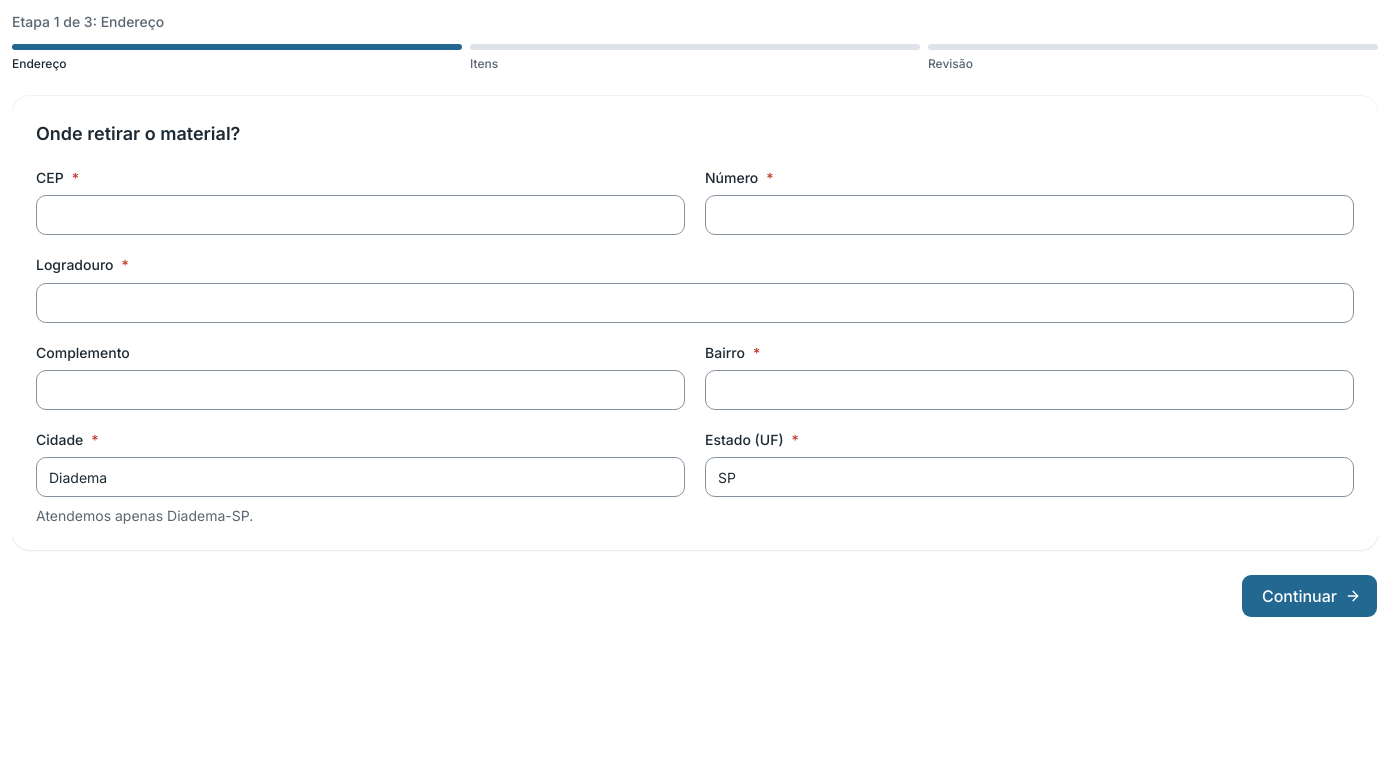
Test: CollectionRequestForm (11 §64, 17_TESTING §78, DEC-073) › não avança com endereço incompleto e indica os campos
Click the button "Continuar" at (1310, 596), box [1241,574,1378,618]
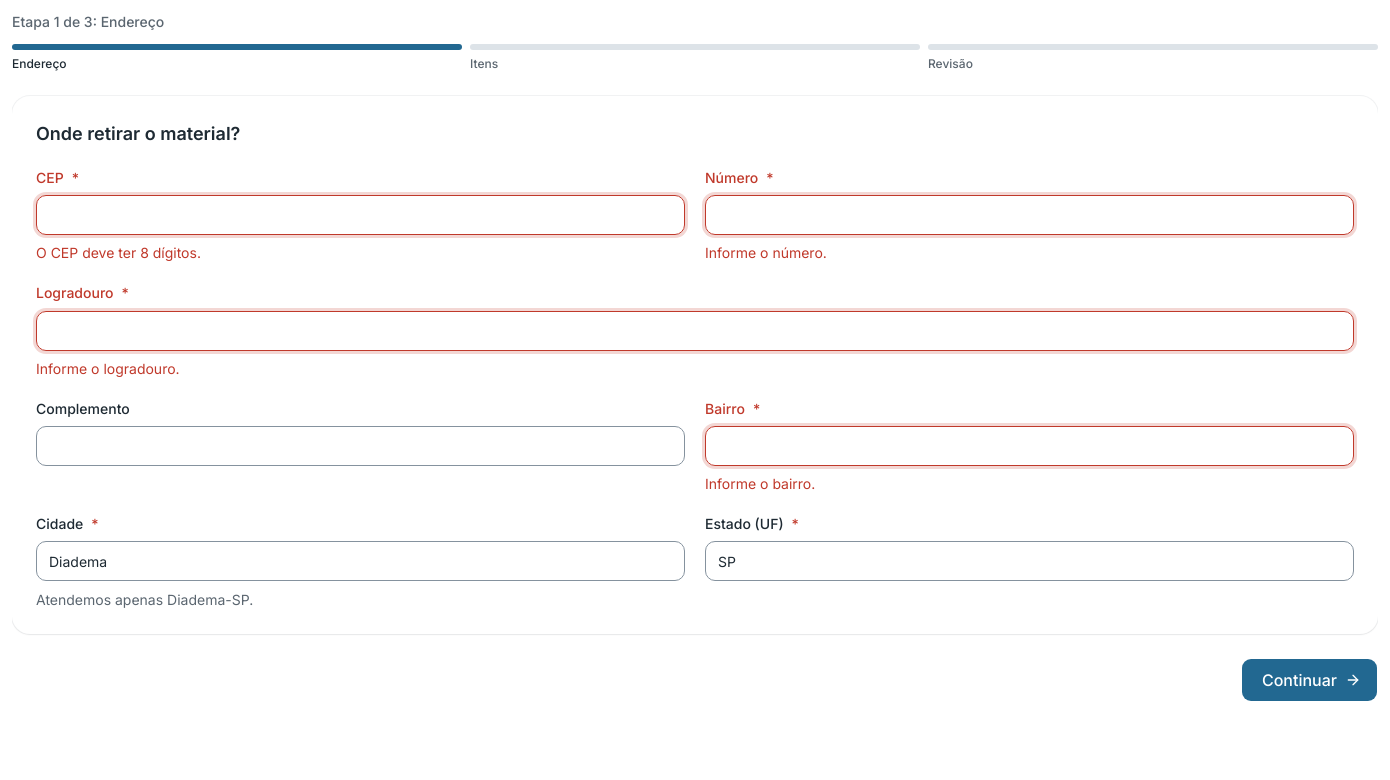
Check: the text "Etapa 1 de 3: Endereço" is shown, box [12,13,164,30]
Check: the text "O CEP deve ter 8 dígitos." is shown, box [36,244,201,261]
Check: the text "Informe o logradouro." is shown, box [36,360,180,376]
